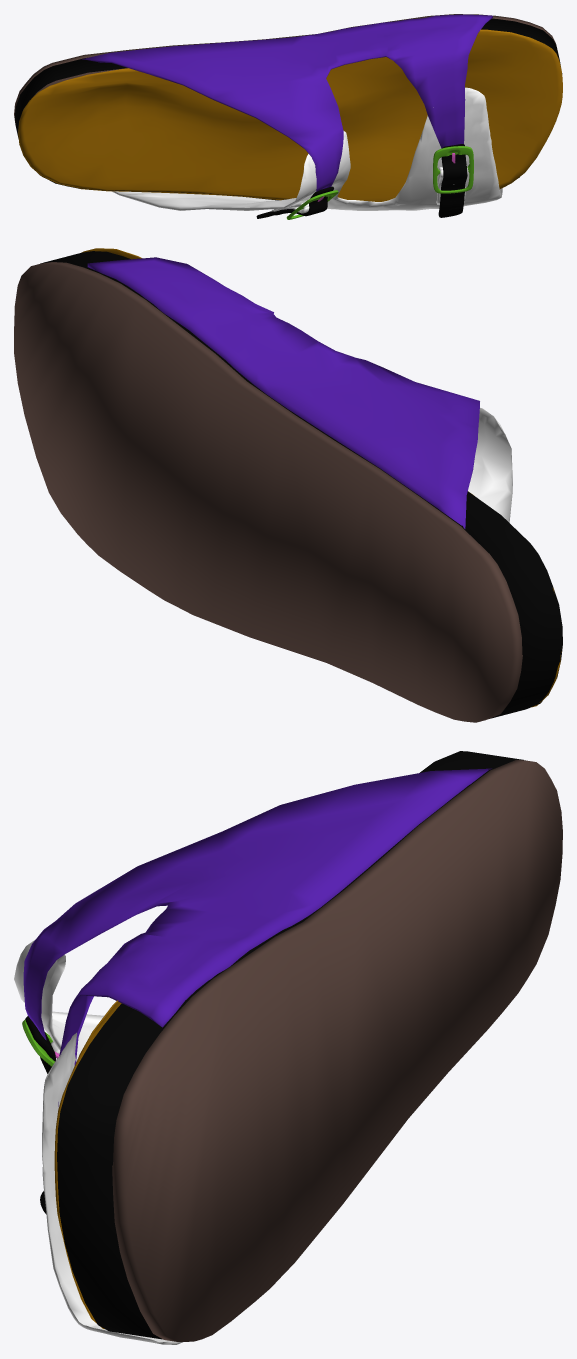
The model's file is sandal11.obj.
3 views of the same model, one above another, from view 1: azimuth 30°, elevation 25°; view 2: azimuth 150°, elevation 25°; view 3: azimuth 270°, elevation 25° (orthographic). The views are drawn at different scales.
Parts seen in each view (by area): view 1: new11, buckle04, buckle03; view 2: new11; view 3: new11.
Boxes of the visible parts, left/top/right/bottom form: new11: left=14, top=14, right=562, bottom=218; buckle04: left=433, top=146, right=473, bottom=193; buckle03: left=286, top=190, right=338, bottom=219; new11: left=14, top=248, right=562, bottom=722; new11: left=14, top=751, right=562, bottom=1344.
Bounding box in the file's own units: 295 × 115 × 164.
